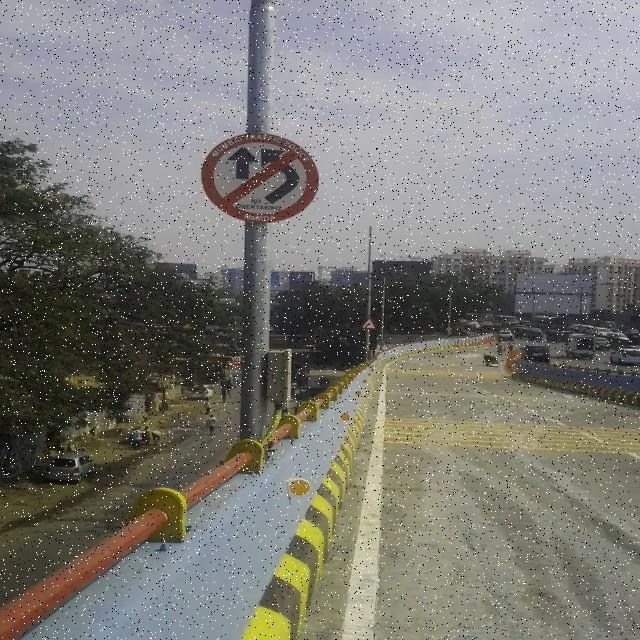No_overtaking: (202, 127, 320, 224)
